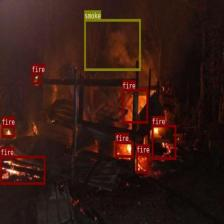fire: (0, 155, 45, 184), (122, 88, 148, 123), (151, 125, 176, 159), (115, 142, 133, 157), (136, 153, 148, 173), (1, 125, 15, 137), (32, 72, 42, 84)
smoke: (84, 19, 141, 70)
